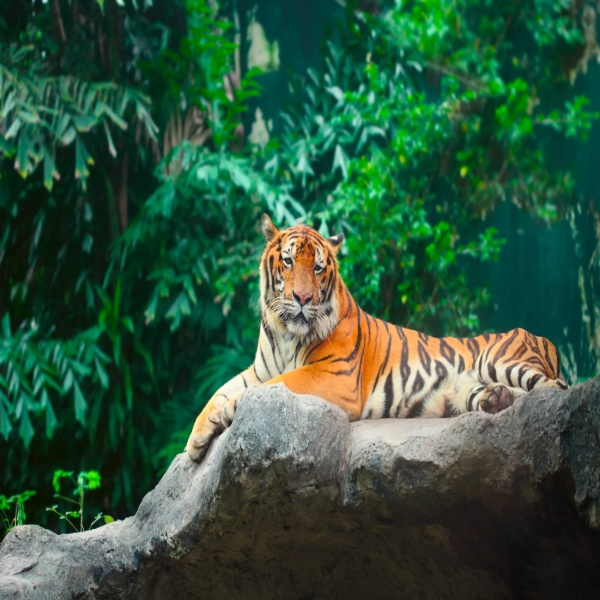Tiger: (182, 209, 570, 466)
